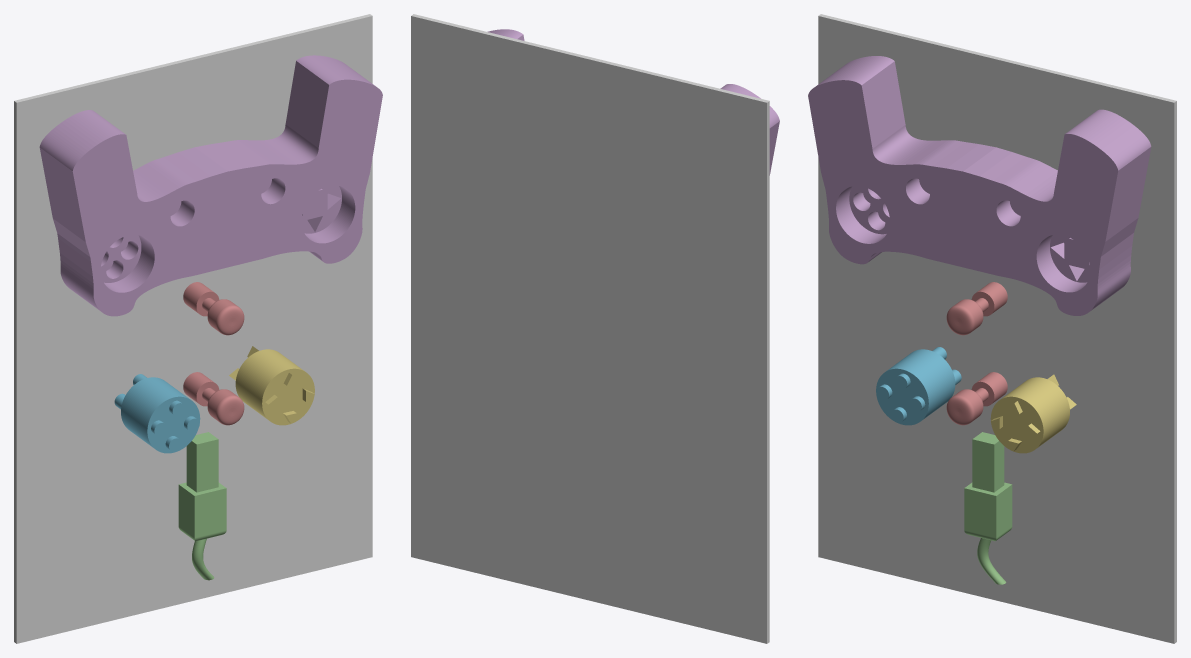
The model's file is pickup_layout.glb.
The picture shows the model from 3 angles, left to right: view 1: azimuth 30°, elevation 25°; view 2: azimuth 150°, elevation 25°; view 3: azimuth 330°, elevation 25°; orthographic projection.
Parts seen in each view (by area): view 1: world, 3.obj, 4.obj, 2.obj, 1.obj, 5.obj, 0.obj; view 2: world, 3.obj; view 3: world, 3.obj, 4.obj, 2.obj, 1.obj, 5.obj, 0.obj.
Part boxes in pixels (bbox=[...]): world: bbox=[14, 14, 372, 643]; 3.obj: bbox=[39, 55, 382, 316]; 4.obj: bbox=[178, 432, 226, 580]; 2.obj: bbox=[114, 374, 200, 453]; 1.obj: bbox=[229, 346, 314, 425]; 5.obj: bbox=[183, 282, 244, 335]; 0.obj: bbox=[183, 372, 244, 425]; world: bbox=[411, 14, 769, 643]; 3.obj: bbox=[487, 29, 779, 175]; world: bbox=[818, 14, 1176, 643]; 3.obj: bbox=[808, 56, 1151, 315]; 4.obj: bbox=[964, 432, 1012, 584]; 2.obj: bbox=[876, 347, 961, 425]; 1.obj: bbox=[990, 374, 1076, 453]; 5.obj: bbox=[946, 282, 1007, 335]; 0.obj: bbox=[946, 372, 1007, 425].
Bounding box in the file's own units: 15.52 × 22.54 × 3.2.
